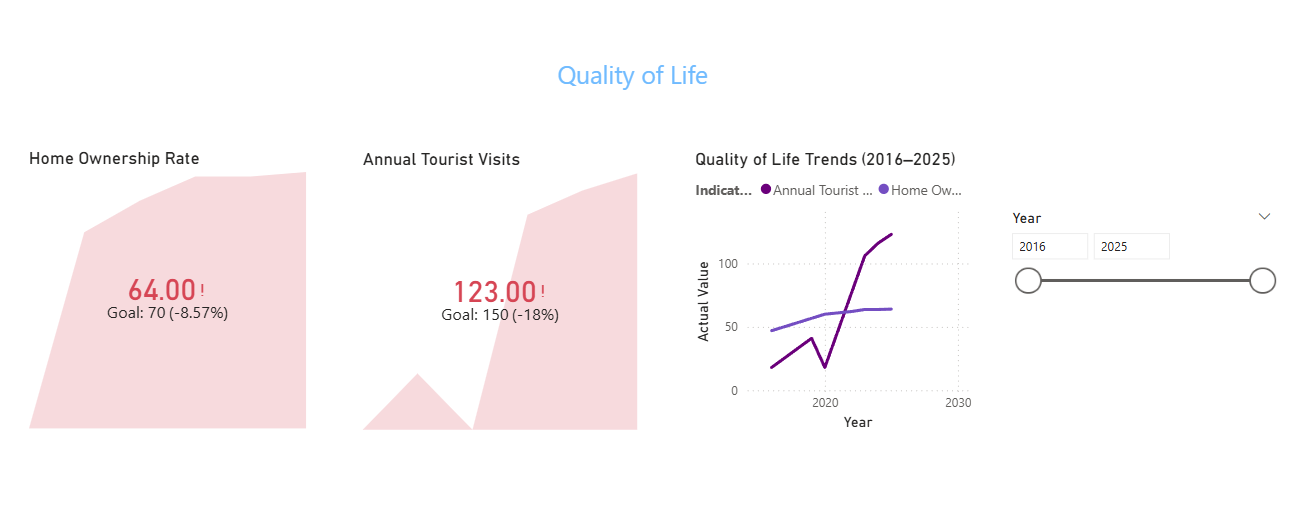

Layout of this report page (visuals, bound fields, positions):
{"tool":"powerbi","page":{"name":"Quality of Life","canvas":[1280,720],"ordinal":2},"visuals":[{"type":"kpi","title":"Home Ownership Rate","fields":{"Indicator":["Facts_National_v2.Actual Value"],"TrendLine":["Facts_National_v2.Year"],"Goal":["Facts_National_v2.Target IND06"]},"box":[34.2,154.1,281.3,280],"z":0},{"type":"kpi","title":"Annual Tourist Visits","fields":{"Indicator":["Facts_National_v2.Actual Value"],"TrendLine":["Facts_National_v2.Year"],"Goal":["Facts_National_v2.Target IND07"]},"box":[360.7,155.3,278.8,280],"z":1},{"type":"lineChart","title":"Quality of Life Trends (2016–2025)","fields":{"Category":["Facts_National_v2.Year"],"Y":["Facts_National_v2.Actual Value"],"Series":["Indicators_v2.IndicatorName"]},"box":[686,155.3,280,280],"z":2},{"type":"slicer","fields":{"Values":["Facts_National_v2.Year"]},"box":[988,209.1,278.8,150.4],"z":3},{"type":"textbox","box":[354.6,61.1,550.3,52.6],"z":4}]}

Visuals, with their boxes on the page's 1280x720 design canvas (x1, y1, x2, y2). These are canvas units, not pixel positions in the 1292x507 screenshot, which may show the page scaled, cropped or inside an application window:
"Home Ownership Rate" kpi: bbox=[34, 154, 316, 434]
"Annual Tourist Visits" kpi: bbox=[361, 155, 640, 435]
"Quality of Life Trends (2016–2025)" lineChart: bbox=[686, 155, 966, 435]
slicer - Facts_National_v2.Year: bbox=[988, 209, 1267, 360]
textbox: bbox=[355, 61, 905, 114]
